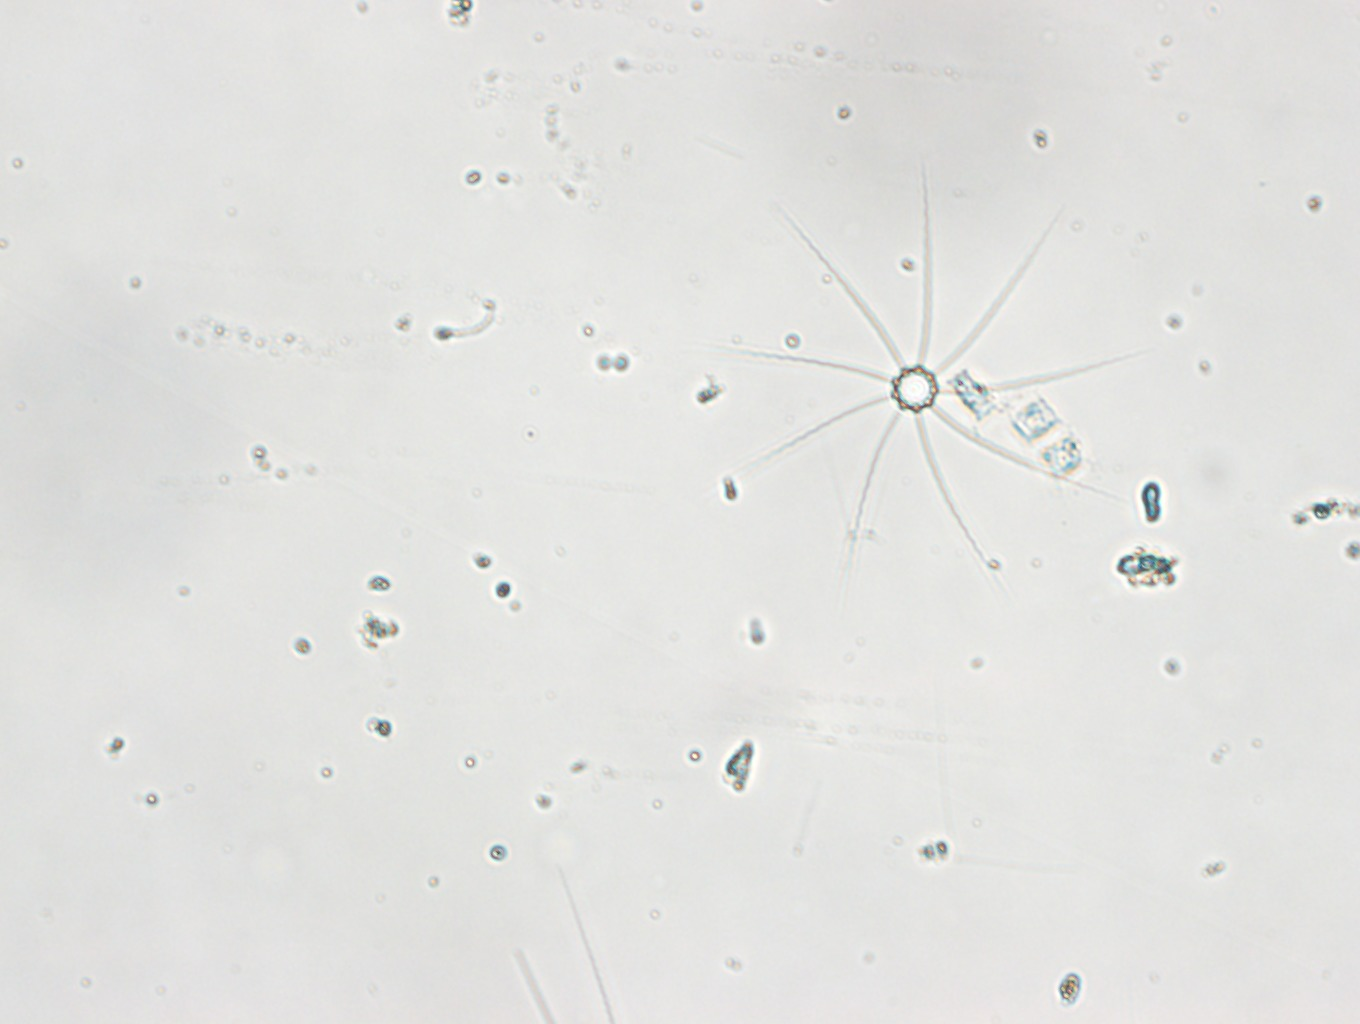bacteriastrum: (733, 158, 1137, 558)
